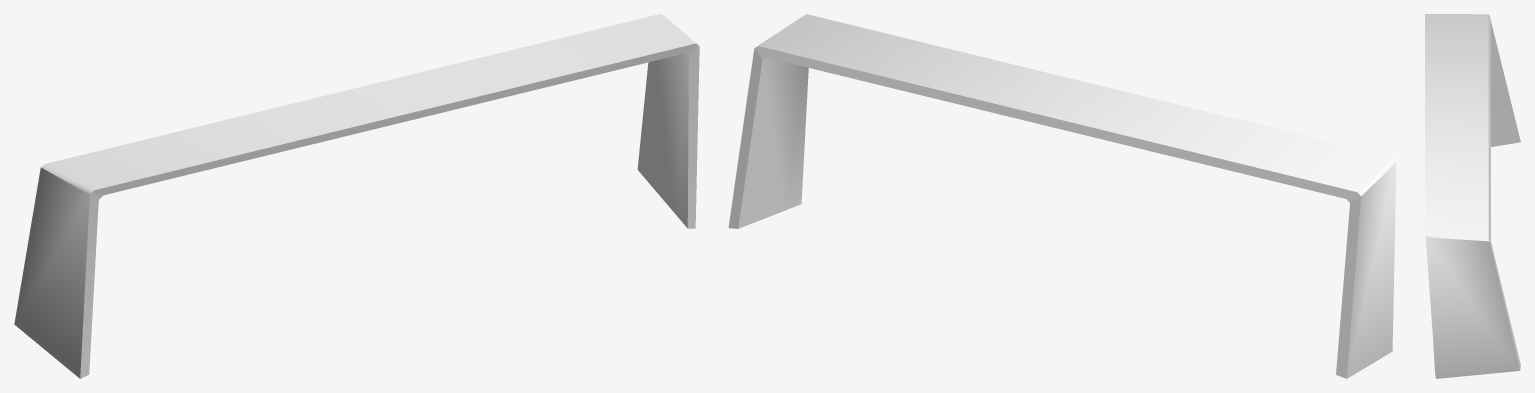
File: GTO_Spoiler05.fbx
The picture shows the model from 3 angles, left to right: view 1: azimuth 30°, elevation 25°; view 2: azimuth 150°, elevation 25°; view 3: azimuth 270°, elevation 25°; orthographic projection. The views are drawn at different scales.
Parts seen in each view (by area): view 1: Empty_Mesh; view 2: Empty_Mesh; view 3: Empty_Mesh.
Part boxes in pixels (<box>): Empty_Mesh: <box>14,14,699,378</box>; Empty_Mesh: <box>728,14,1396,378</box>; Empty_Mesh: <box>1425,14,1520,378</box>.
Size of the model in its own units: 154 by 44.66 by 27.07.
